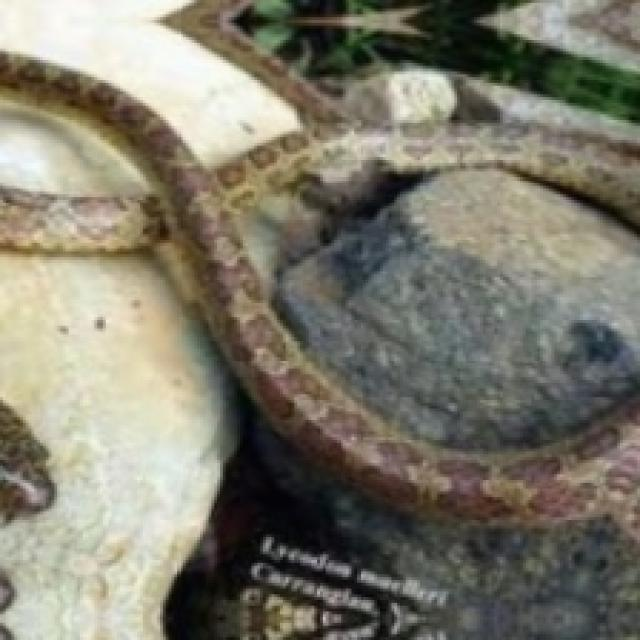mullers wolf snake: (0, 51, 637, 637), (0, 51, 637, 560), (0, 254, 189, 637)
